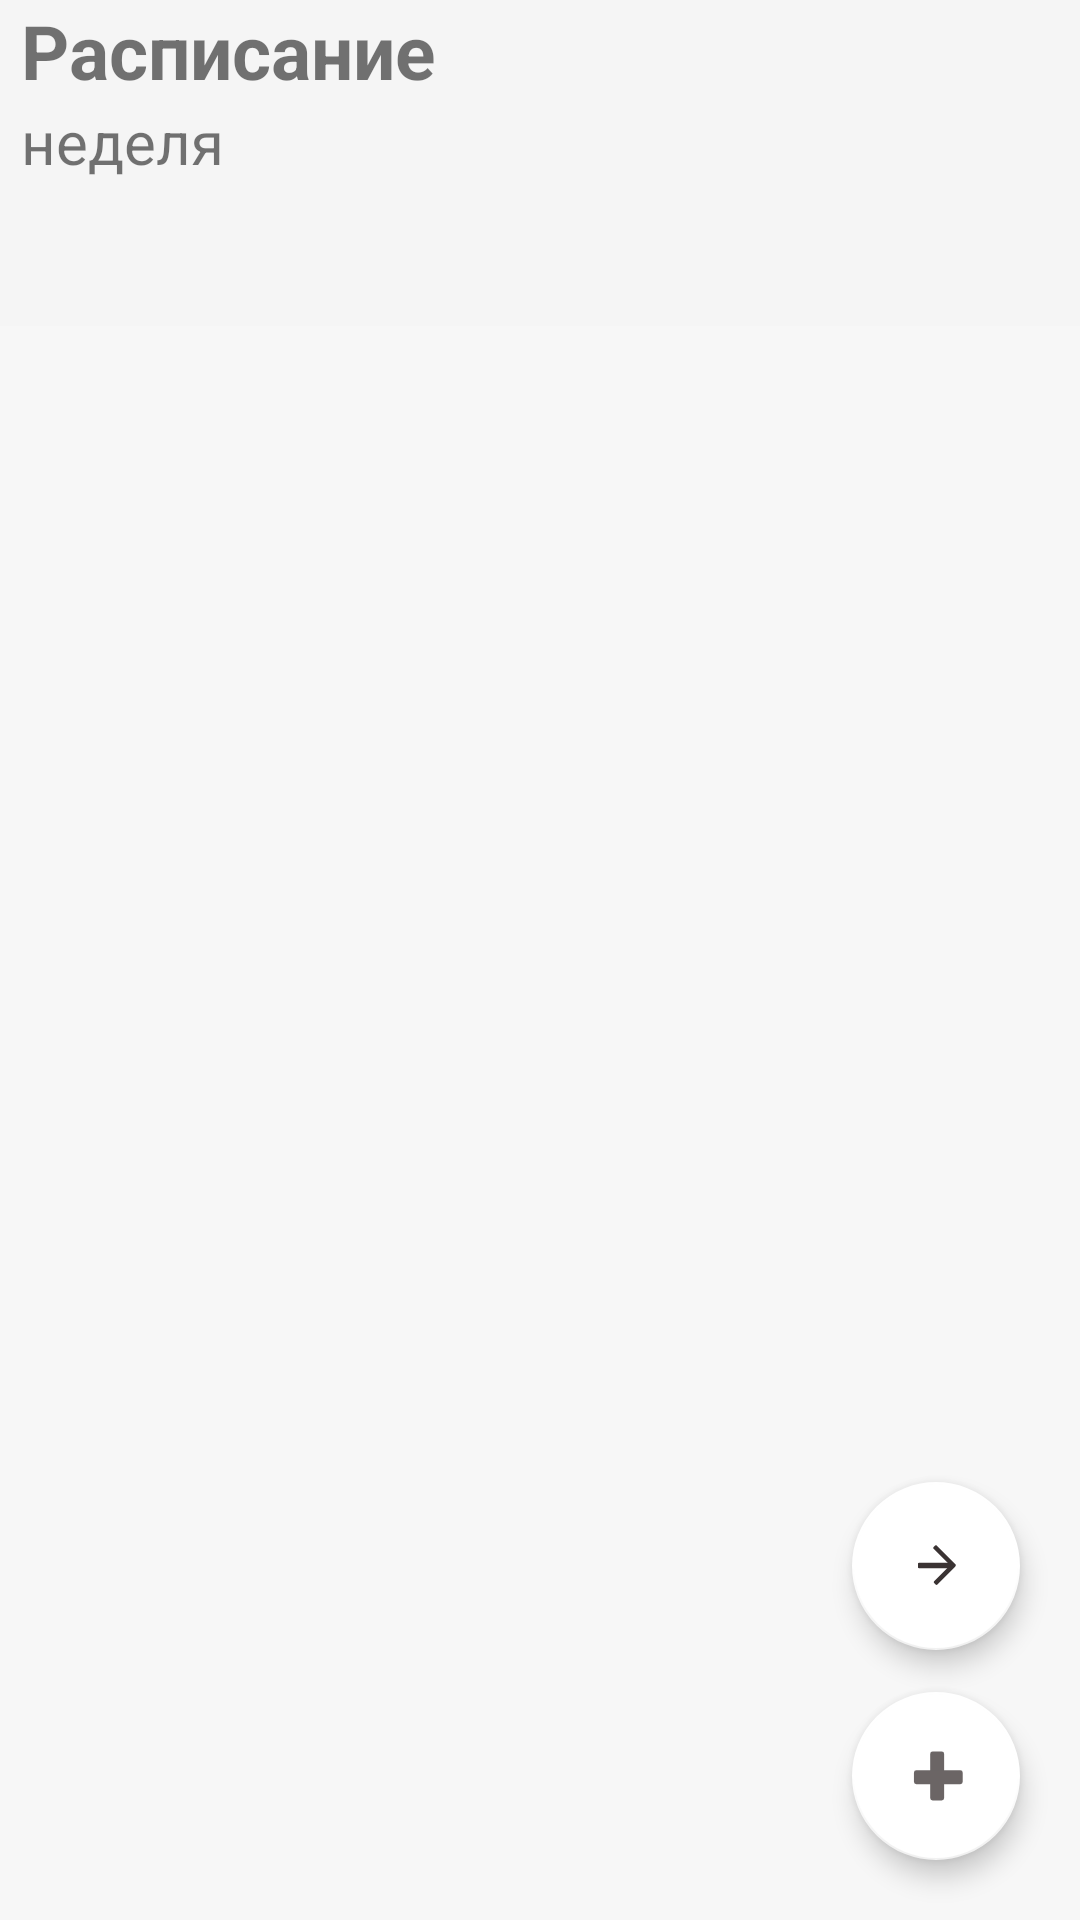

Screen size 1080w x 1920h. Icon name, then its center in pixels as point (x, y):
arrow: point (936, 1566)
plus: point (936, 1776)
